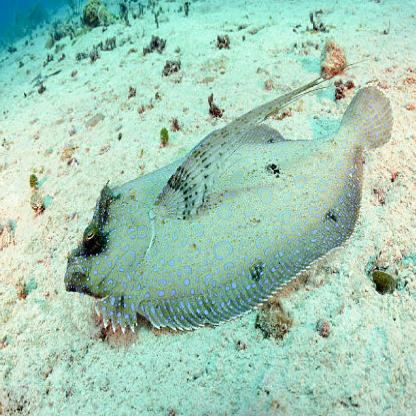flounder: (60, 79, 400, 353)
